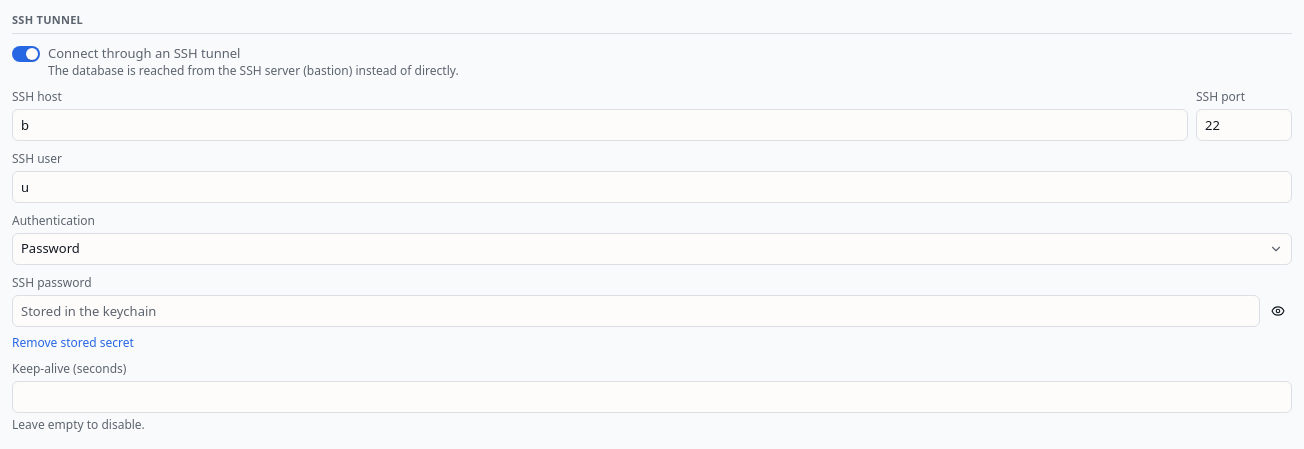
SshSection › lets the user remove the stored secret of an edited profile
Click the button "Remove stored secret".
click(73, 343)  # box 12,335 -> 134,351
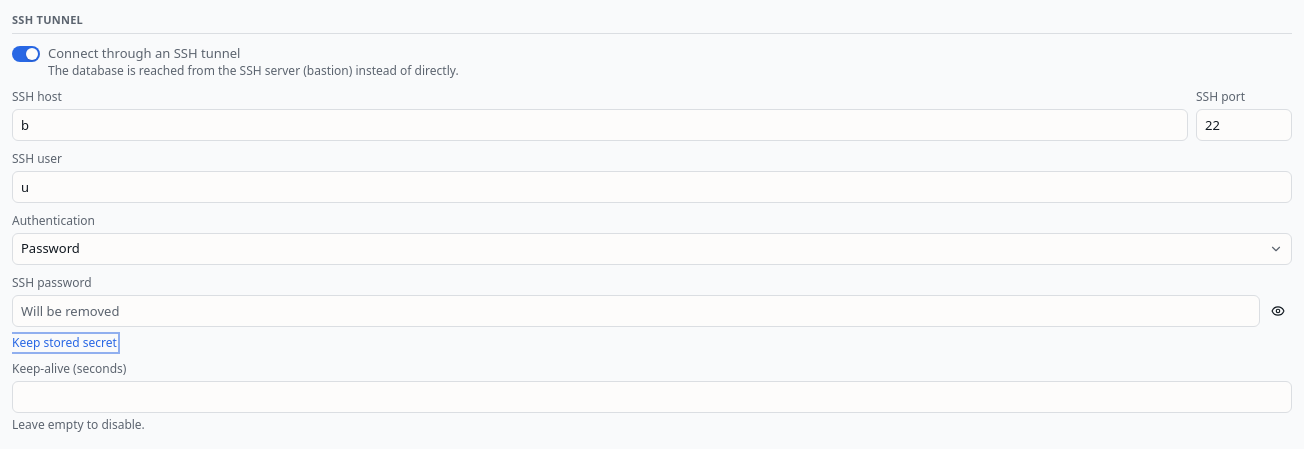
Result: the password field labelled "SSH password" has attribute placeholder="Will be removed" at 12,295 -> 1260,327
Click the button "Keep stored secret".
click(64, 343)  # box 12,335 -> 117,351
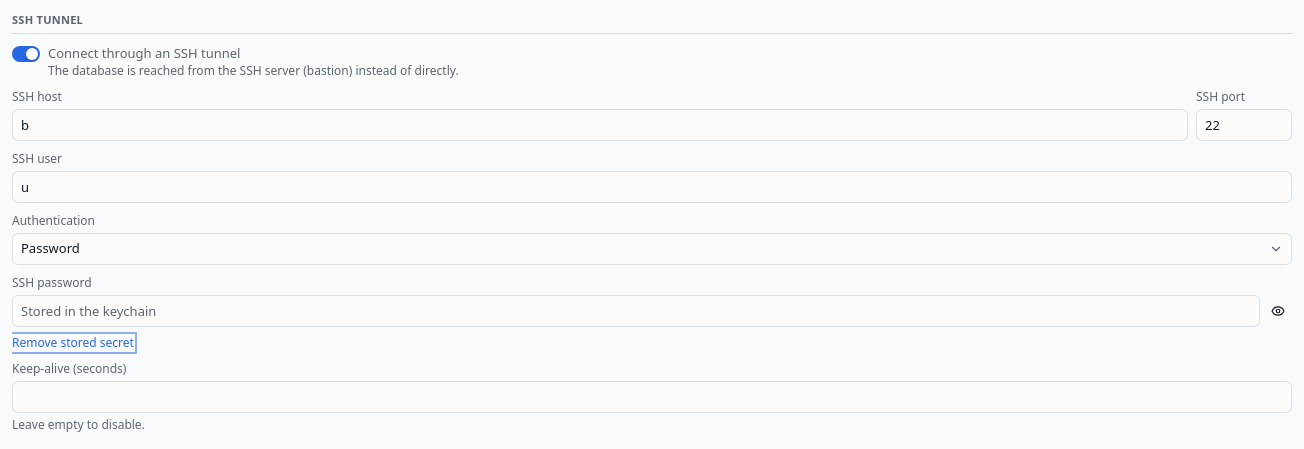
typing hides the remove button
Type "x" into the password field labelled "SSH password".
click(636, 311); type("x")  # box 12,295 -> 1260,327
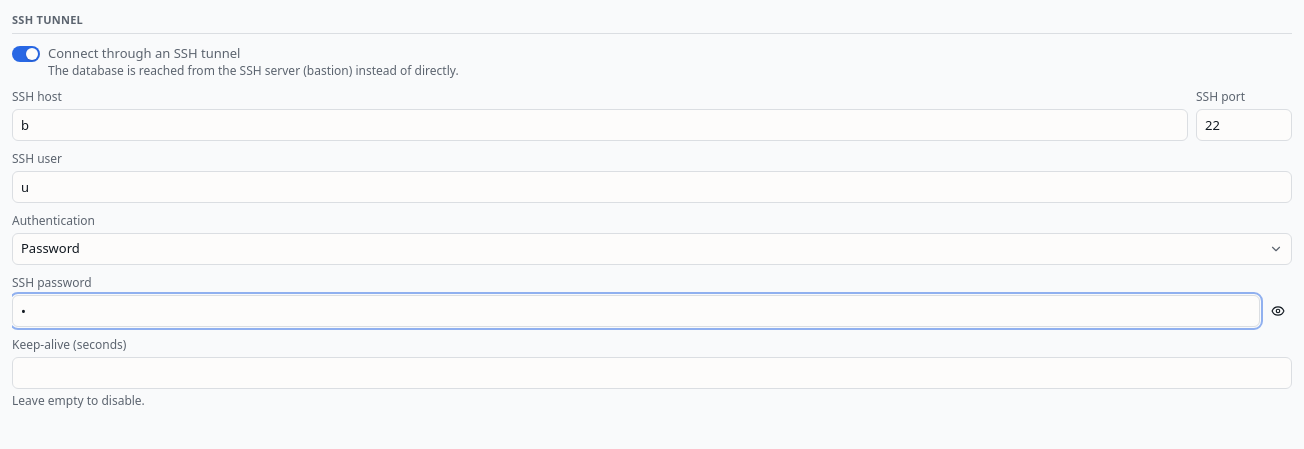
Result: the button "Remove stored secret" is gone
